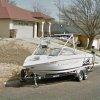Boat: (17, 28, 94, 86)
